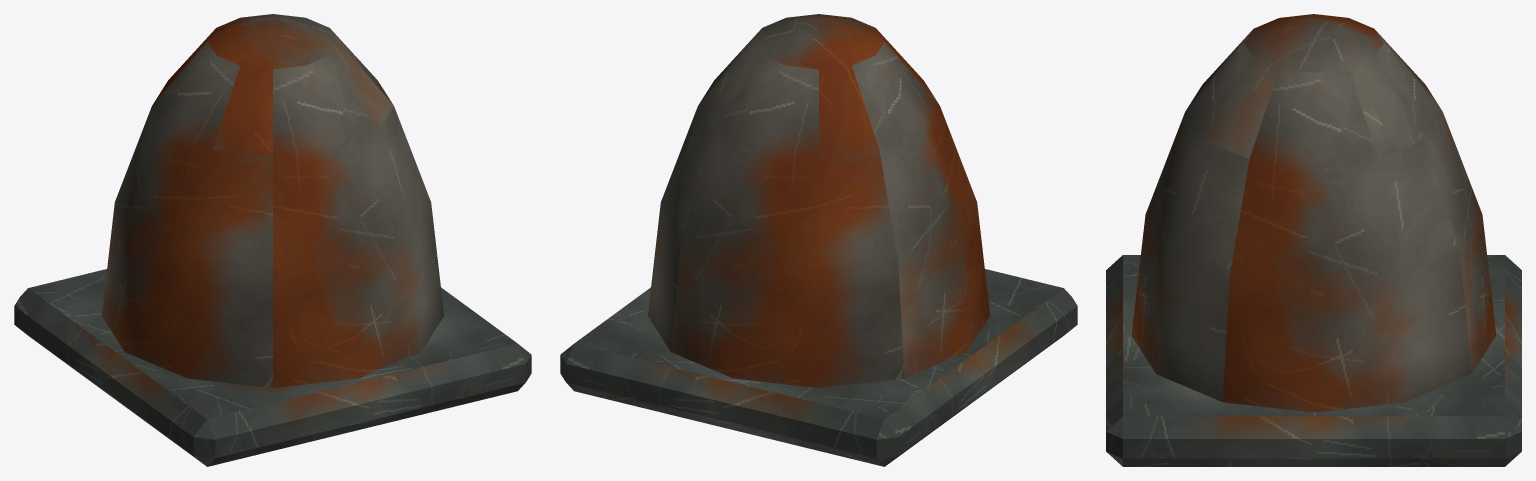
Rendered from R4B_Dome_LOD1.glb.
The picture shows the model from 3 angles, left to right: view 1: azimuth 30°, elevation 25°; view 2: azimuth 150°, elevation 25°; view 3: azimuth 270°, elevation 25°; orthographic projection. The views are drawn at different scales.
Visible parts, largest first — view 1: R4B_Dome_LOD1; view 2: R4B_Dome_LOD1; view 3: R4B_Dome_LOD1.
Part boxes in pixels (x1=…): R4B_Dome_LOD1: x1=14, y1=14, x2=531, y2=466; R4B_Dome_LOD1: x1=560, y1=14, x2=1077, y2=466; R4B_Dome_LOD1: x1=1106, y1=14, x2=1521, y2=466.
Bounding box in the file's own units: 0.52 × 0.506 × 0.52.
Materials: 2 (2 with a texture image).
